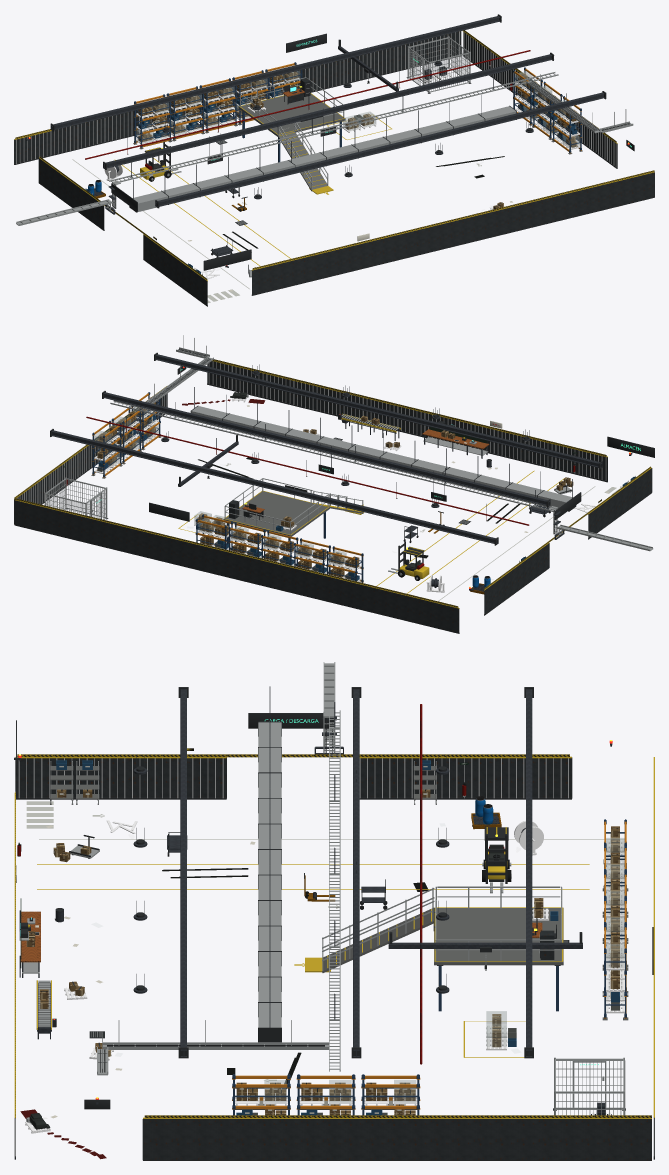
File: warehouse_art.glb
The picture shows the model from 3 angles, top to bottom: view 1: azimuth 30°, elevation 25°; view 2: azimuth 150°, elevation 25°; view 3: azimuth 270°, elevation 25°; orthographic projection. The views are drawn at different scales.
Visible parts, largest first — view 1: WH_Wainscot_S_01, WH_CeilingBeams_TRIM, WH_Wainscot_N_01, WH_HVAC_DIFFUSER, WH_Mezzanine, WH_Wainscot_E_01, WH_SecurityCage, WH_CableTray_CABLE, WH_Wainscot_W_S_01, WH_Wainscot_W_N_01, WH_HazardBand_TRIM, WH_Rack_N_01 (+14 smaller); view 2: WH_Wainscot_N_01, WH_CeilingBeams_TRIM, WH_Wainscot_S_01, WH_HVAC_DIFFUSER, WH_Mezzanine, WH_HazardBand_TRIM, WH_CableTray_CABLE, WH_Wainscot_E_01, WH_Wainscot_W_N_01, WH_Wainscot_W_S_01, WH_SecurityCage, WH_Rack_E_03 (+15 smaller); view 3: WH_Wainscot_E_01, WH_Mezzanine, WH_Wainscot_W_N_01, WH_CeilingBeams_TRIM, WH_HVAC_DIFFUSER, WH_Wainscot_W_S_01, WH_HazardBand_TRIM, WH_CableTray_CABLE, WH_SecurityCage, WH_E1_TrayLink_CABLE, WH_FloorLines_FLOOR_LINE, WH_Rack_E_03 (+17 smaller).
Part boxes in pixels (x1,y1,x2,y2): WH_Wainscot_S_01: (251, 172, 654, 295); WH_CeilingBeams_TRIM: (50, 14, 606, 208); WH_Wainscot_N_01: (14, 31, 461, 164); WH_HVAC_DIFFUSER: (129, 87, 516, 212); WH_Mezzanine: (238, 77, 345, 194); WH_Wainscot_E_01: (463, 31, 617, 168); WH_SecurityCage: (406, 36, 471, 93); WH_CableTray_CABLE: (109, 72, 558, 183); WH_Wainscot_W_S_01: (143, 234, 207, 306); WH_Wainscot_W_N_01: (38, 157, 104, 230); WH_HazardBand_TRIM: (15, 30, 654, 279); WH_Rack_N_01: (133, 94, 172, 149); WH_Wainscot_N_01: (14, 500, 459, 633); WH_CeilingBeams_TRIM: (50, 352, 602, 545); WH_Wainscot_S_01: (207, 360, 607, 482); WH_HVAC_DIFFUSER: (190, 387, 576, 511); WH_Mezzanine: (223, 478, 363, 554); WH_HazardBand_TRIM: (14, 359, 650, 607); WH_CableTray_CABLE: (110, 400, 557, 511); WH_Wainscot_E_01: (14, 393, 167, 524); WH_Wainscot_W_N_01: (484, 543, 549, 615); WH_Wainscot_W_S_01: (588, 467, 652, 539); WH_SecurityCage: (44, 477, 108, 519); WH_Rack_E_03: (91, 420, 122, 478); WH_Wainscot_E_01: (142, 1117, 651, 1160); WH_Mezzanine: (305, 886, 563, 1011); WH_Wainscot_W_N_01: (359, 756, 572, 799); WH_CeilingBeams_TRIM: (178, 687, 533, 1058); WH_HVAC_DIFFUSER: (258, 686, 281, 1042); WH_Wainscot_W_S_01: (15, 757, 226, 799); WH_HazardBand_TRIM: (15, 754, 651, 1117); WH_CableTray_CABLE: (329, 702, 340, 1071); WH_SecurityCage: (553, 1057, 625, 1115); WH_E1_TrayLink_CABLE: (97, 1020, 328, 1075); WH_FloorLines_FLOOR_LINE: (26, 801, 624, 1057); WH_Rack_E_03: (361, 1074, 420, 1115).
Bounding box in the file's own units: 48.2 × 5.97 × 29.69.
46 materials, 18 textured.
